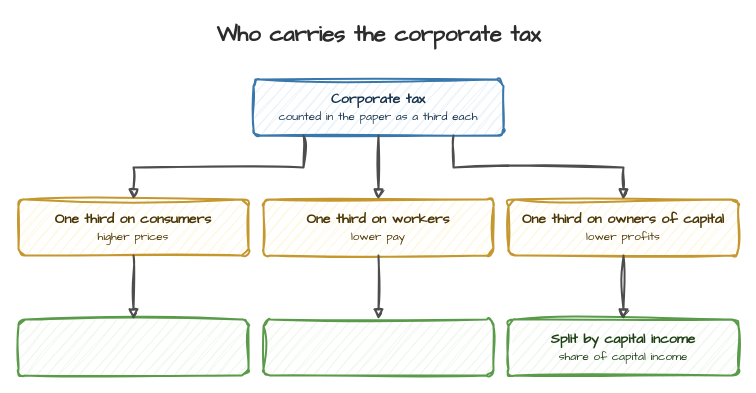
The diagram is 756 pixels wide and 393 high, and some of its shapes have lost their labels. The shapes that lost their labels are listed below. From the top down, each one's box as (x1, y1, x2, y2) in pixels, then its label:
(17, 318, 249, 376): Split by spending share of consumption
(262, 318, 494, 376): Split by labor income share of wages
